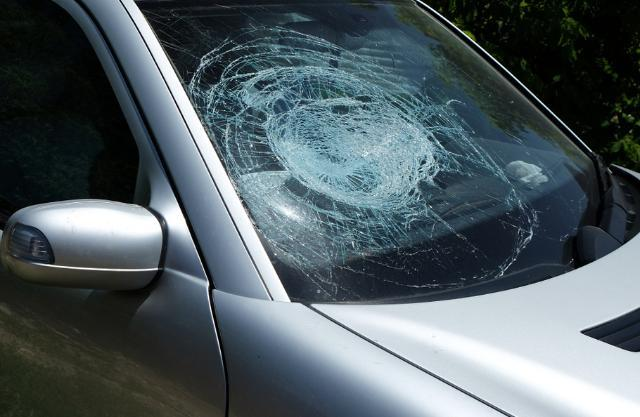Windshield: (156, 15, 640, 274)
